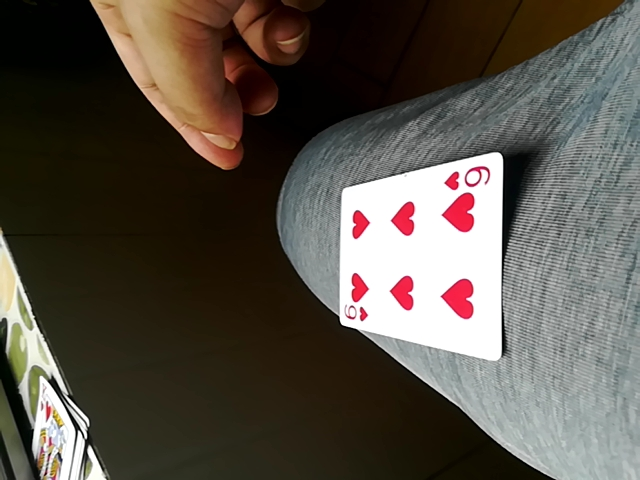hx 6: (328, 152, 512, 361)
